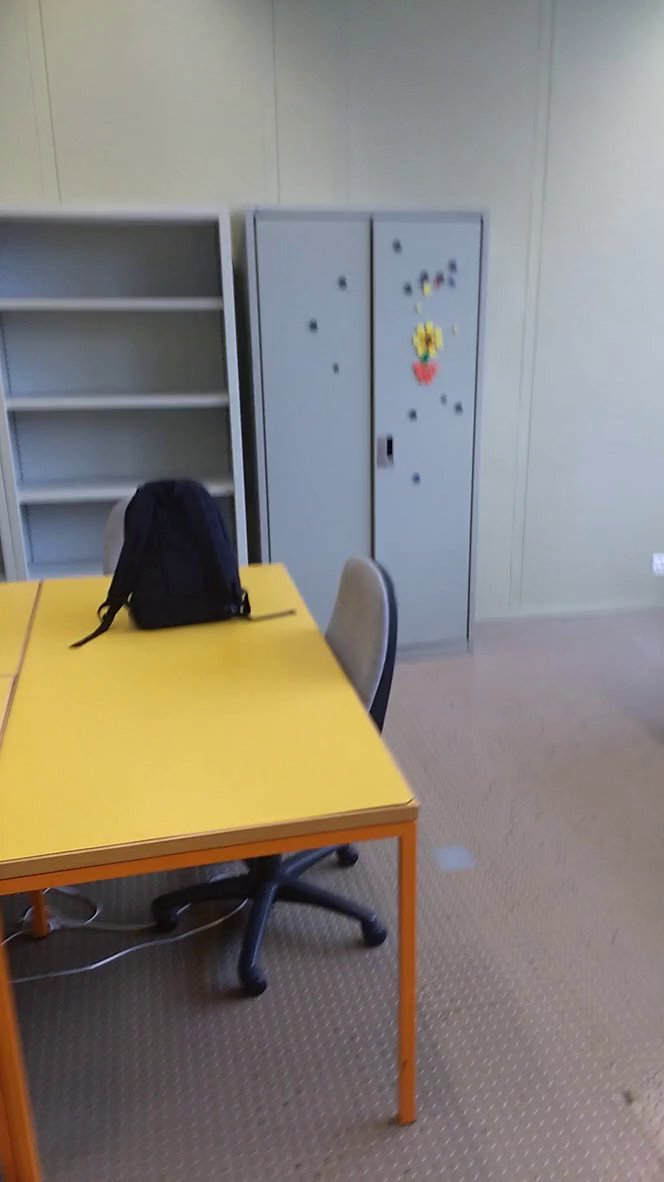bag: (68, 470, 301, 650)
chair: (296, 540, 437, 757)
